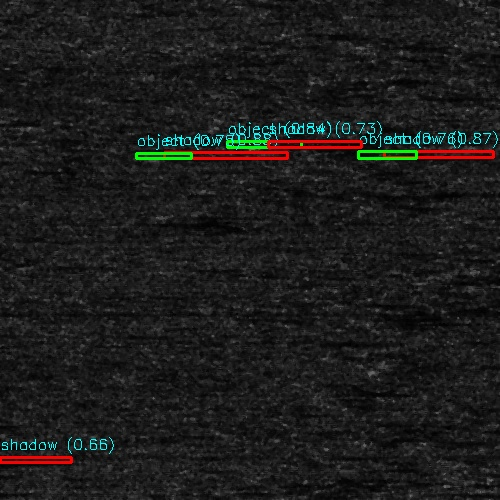rock: (370, 150, 411, 159), (148, 153, 189, 158)
shadow: (391, 150, 489, 159), (169, 153, 285, 158), (0, 441, 38, 448), (0, 457, 18, 468)
